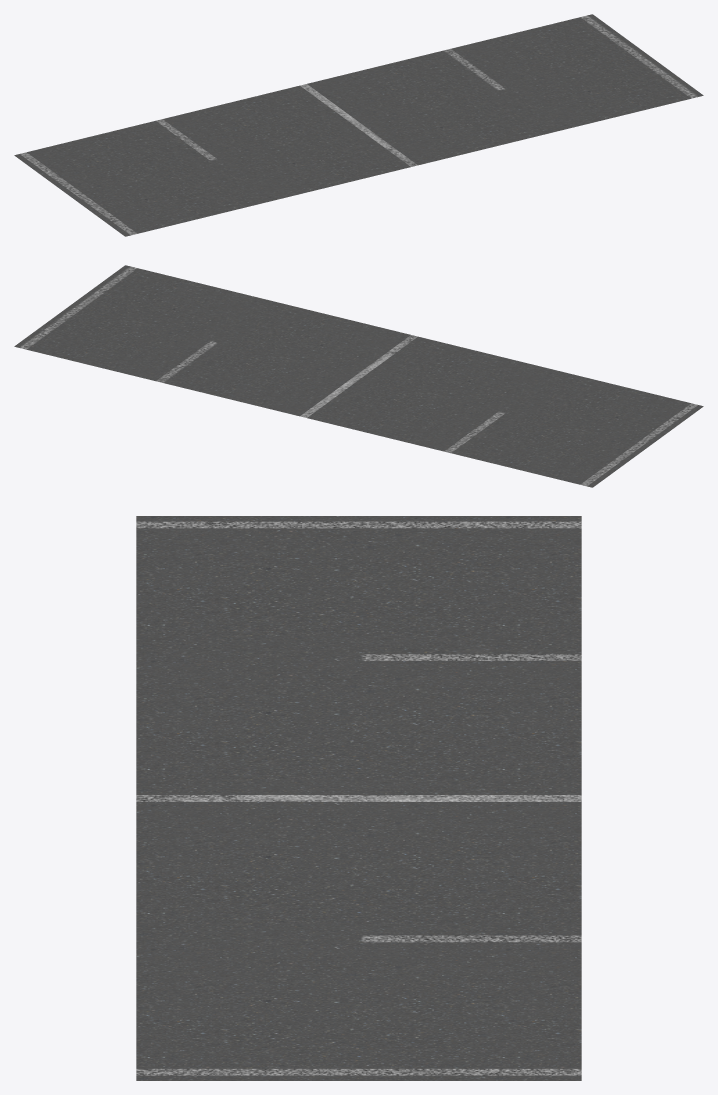
Rendered from OudanHodou_4.FBX.
The picture shows the model from 3 angles, top to bottom: view 1: azimuth 30°, elevation 25°; view 2: azimuth 150°, elevation 25°; view 3: azimuth 270°, elevation 25°; orthographic projection. The views are drawn at different scales.
Parts seen in each view (by area): view 1: 4syasen; view 2: 4syasen; view 3: 4syasen.
Boxes of the visible parts, x1=… form: 4syasen: x1=14, y1=14, x2=703, y2=236; 4syasen: x1=14, y1=265, x2=703, y2=487; 4syasen: x1=136, y1=516, x2=581, y2=1080.
Size of the model in its own units: 1200 by 0.000163 by 400.
